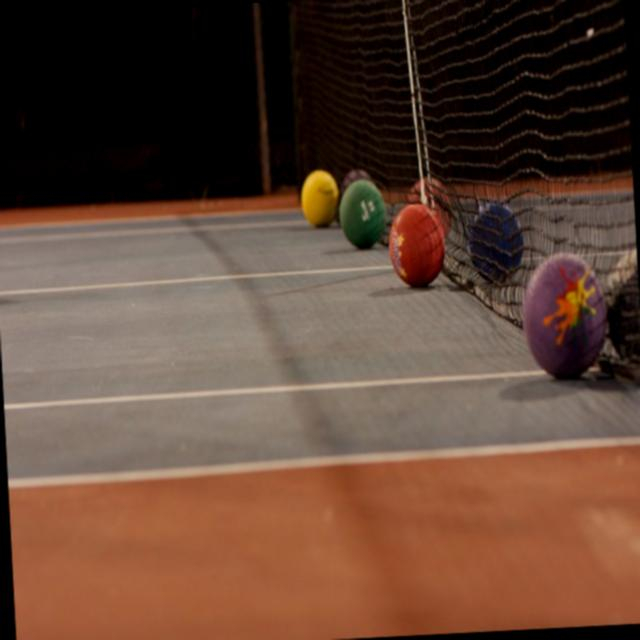Tennis Ball: (519, 247, 608, 379), (387, 202, 448, 290), (462, 203, 522, 292), (603, 248, 640, 366), (336, 181, 387, 253), (299, 165, 342, 228), (406, 175, 449, 223), (342, 166, 370, 190)
